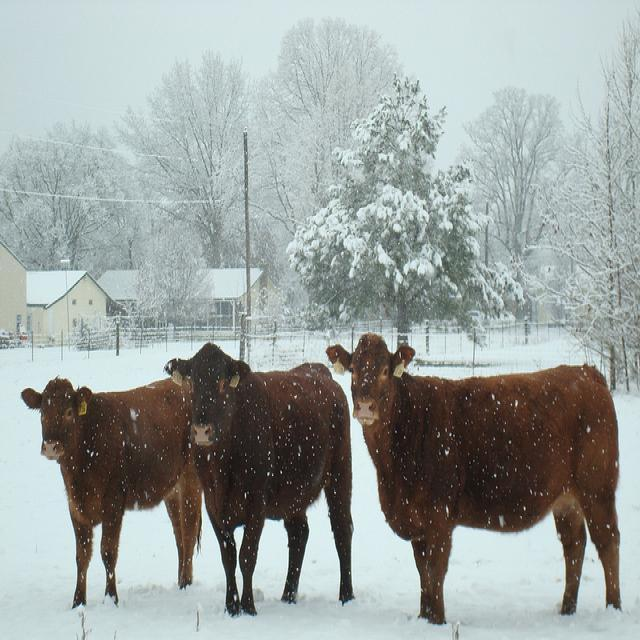cow: (325, 331, 620, 623), (156, 335, 360, 617), (17, 372, 202, 603)
